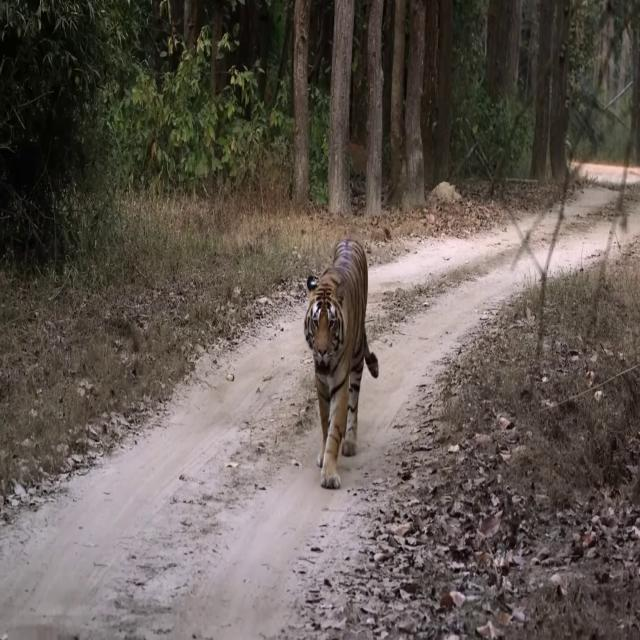tiger: (304, 238, 379, 490)
